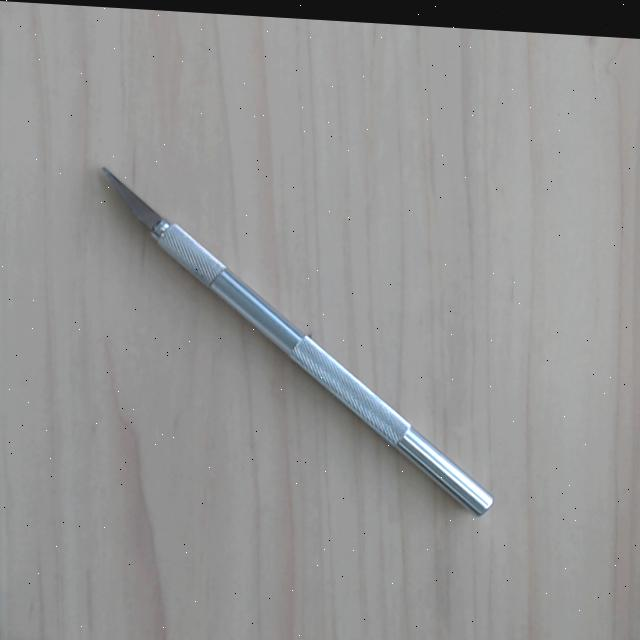Cutter-Kecil: (88, 162, 498, 519)
